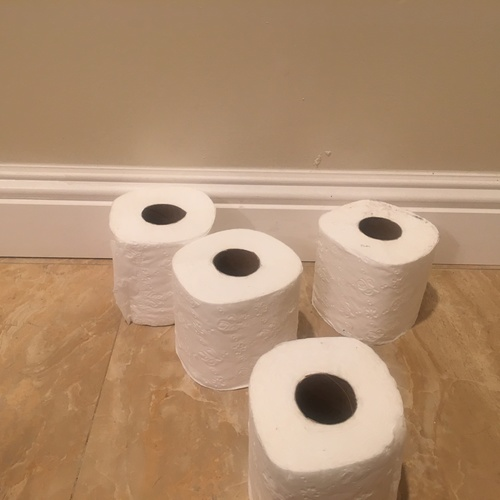roll: (246, 335, 406, 500), (170, 226, 304, 392), (309, 198, 440, 346), (107, 184, 217, 327)
